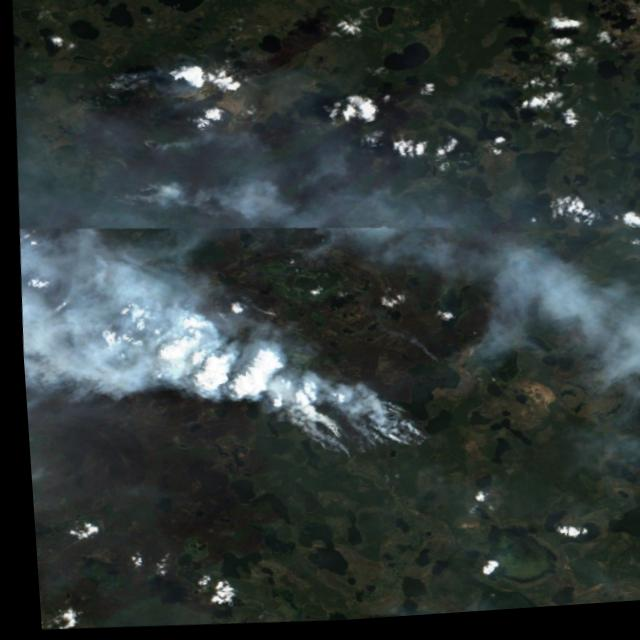fire: (267, 386, 443, 477), (99, 163, 180, 216)
